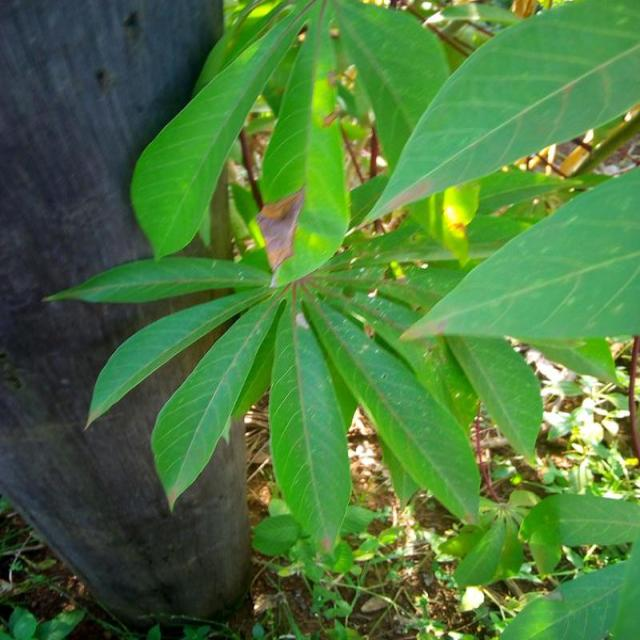cassava leaf: (40, 0, 636, 567), (356, 0, 638, 227), (397, 163, 638, 348)
